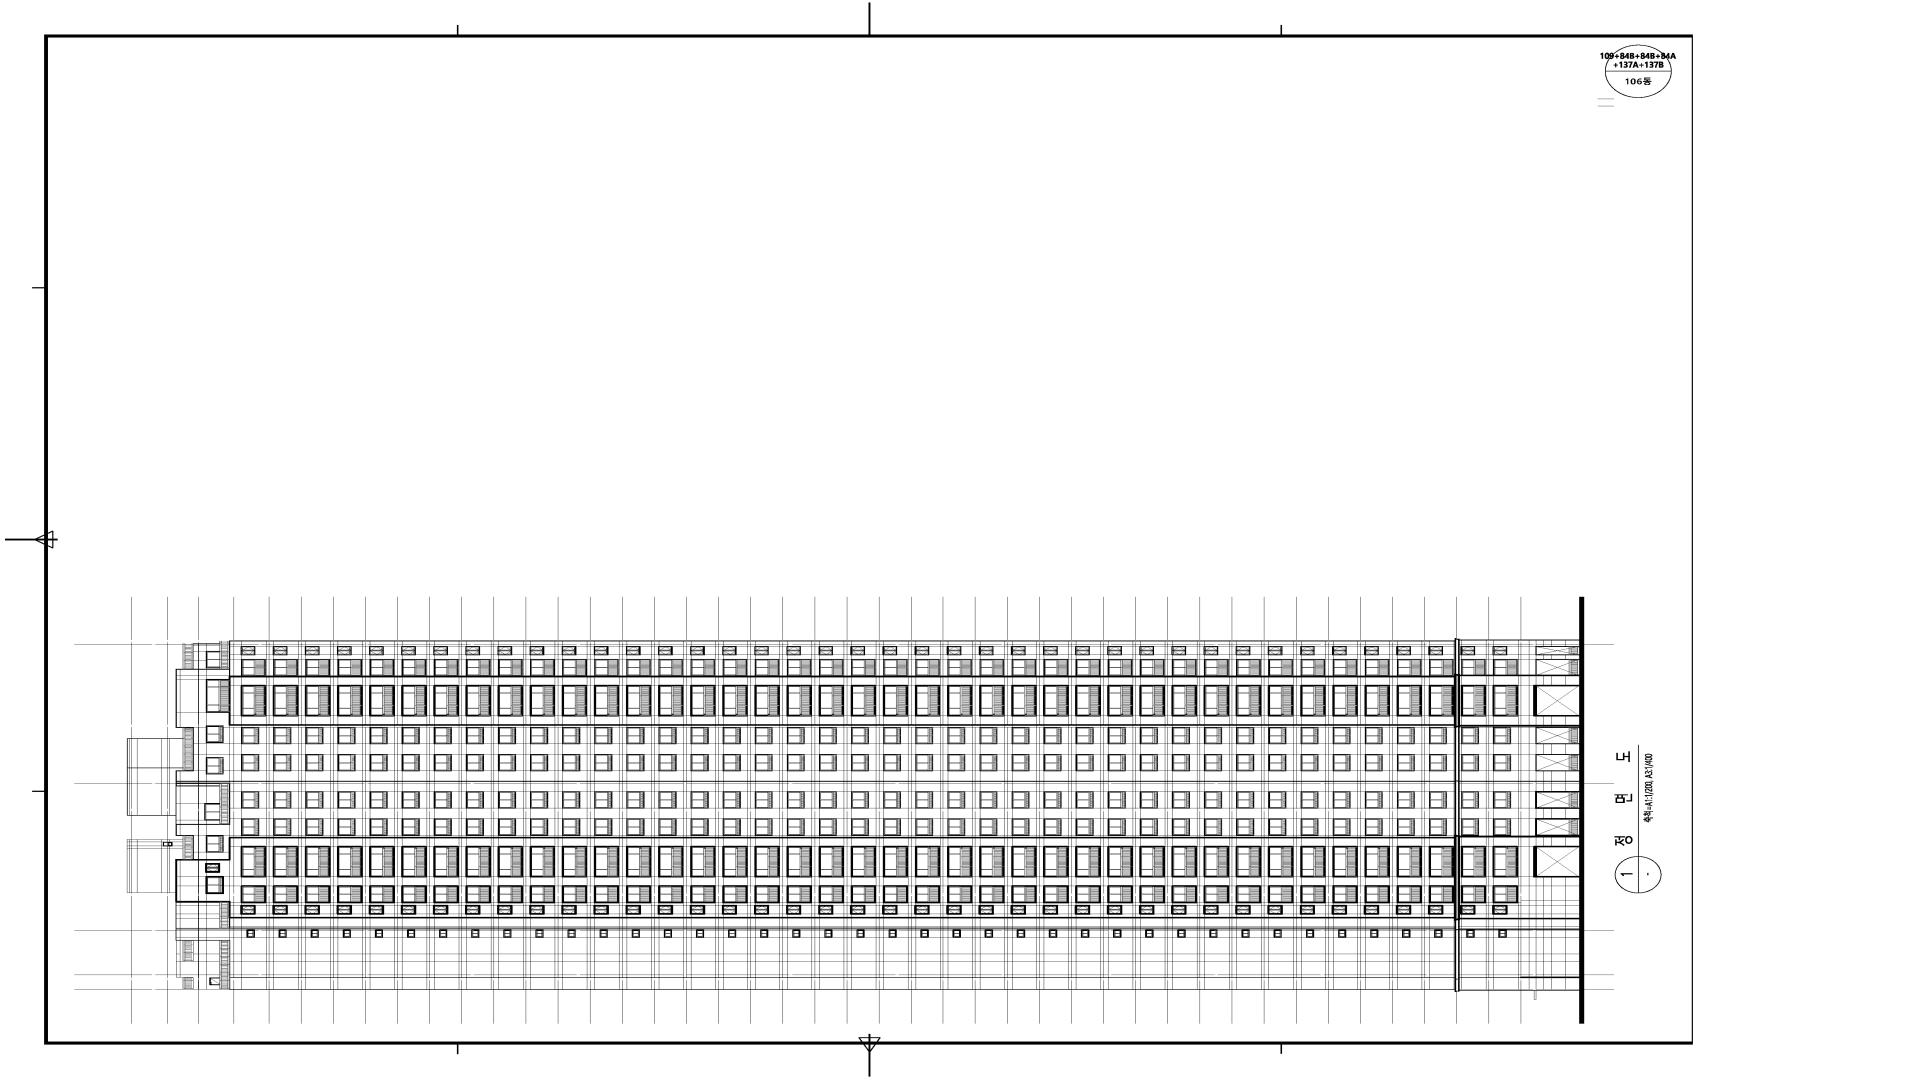door: (1534, 845, 1580, 877), (1534, 684, 1580, 716), (210, 977, 231, 985)
wall: (127, 640, 1585, 990)
window: (1300, 684, 1327, 717), (1332, 684, 1358, 717), (1428, 684, 1455, 717), (240, 845, 266, 878), (1332, 845, 1358, 878), (206, 679, 231, 713), (1139, 847, 1166, 878), (1171, 847, 1197, 878), (1203, 847, 1229, 878), (1267, 684, 1294, 716), (1396, 684, 1423, 716), (947, 845, 973, 877), (947, 684, 973, 716), (305, 845, 331, 877), (401, 845, 427, 877), (497, 845, 524, 877), (1108, 684, 1134, 716), (1139, 684, 1166, 716), (240, 684, 266, 716), (305, 684, 331, 716), (336, 686, 363, 717), (369, 684, 396, 716), (401, 684, 427, 716), (434, 686, 460, 717), (497, 686, 524, 717), (529, 684, 555, 716), (721, 684, 748, 716), (754, 684, 781, 716), (882, 684, 909, 716), (529, 845, 555, 877), (593, 845, 620, 877), (626, 845, 653, 877), (658, 847, 684, 878), (690, 845, 716, 877), (754, 847, 781, 878), (786, 845, 812, 877), (882, 847, 909, 878), (1535, 818, 1580, 836), (980, 845, 1005, 878), (1365, 684, 1390, 717), (1493, 684, 1518, 717), (273, 845, 298, 878), (369, 845, 394, 878), (434, 845, 459, 878), (465, 845, 491, 878), (1011, 684, 1036, 717), (1204, 684, 1229, 717), (1461, 845, 1486, 878), (1011, 845, 1036, 877), (1043, 847, 1068, 878), (1075, 847, 1100, 878), (1108, 847, 1133, 878), (1236, 845, 1261, 877), (1461, 684, 1486, 716), (338, 845, 363, 877), (980, 684, 1005, 716), (1044, 684, 1069, 716), (1076, 684, 1101, 716), (1172, 684, 1197, 716), (1236, 684, 1261, 716), (915, 684, 940, 716), (1269, 847, 1294, 878), (1300, 847, 1325, 878), (1365, 845, 1390, 877), (1396, 847, 1422, 878), (1429, 845, 1455, 877), (1493, 847, 1518, 878), (273, 684, 298, 716), (465, 684, 491, 716), (562, 684, 587, 716), (595, 684, 620, 716), (626, 684, 651, 716), (658, 684, 683, 716), (690, 684, 715, 716), (786, 684, 811, 716), (820, 686, 845, 717), (851, 684, 876, 716), (562, 845, 587, 877), (723, 845, 748, 877), (819, 845, 844, 877), (851, 845, 876, 877), (915, 845, 940, 877), (1535, 791, 1580, 808), (1535, 754, 1580, 771), (1535, 727, 1580, 744), (1535, 659, 1580, 676), (1106, 885, 1133, 903), (1171, 885, 1197, 903), (947, 885, 973, 903), (1396, 885, 1423, 903), (1428, 885, 1455, 903), (401, 885, 427, 903), (433, 885, 459, 903), (1267, 885, 1294, 903), (882, 885, 909, 903), (690, 885, 716, 903), (658, 885, 684, 903), (593, 885, 620, 903), (497, 885, 524, 903), (336, 885, 363, 903), (980, 885, 1005, 903), (1011, 885, 1036, 903), (1043, 885, 1068, 903), (1075, 885, 1100, 903), (1139, 885, 1164, 903), (1204, 885, 1229, 903), (1333, 659, 1358, 678), (1365, 659, 1390, 678), (1396, 659, 1422, 678), (947, 659, 972, 678), (980, 659, 1005, 678), (1204, 659, 1229, 678), (1236, 659, 1261, 678), (1300, 885, 1325, 903), (1333, 885, 1358, 903), (1365, 885, 1390, 903), (1461, 885, 1486, 903), (1493, 885, 1518, 903), (241, 659, 266, 678), (305, 659, 330, 678), (369, 659, 394, 678), (401, 659, 426, 678), (434, 659, 459, 678), (465, 659, 491, 678), (562, 659, 587, 678), (593, 659, 618, 678), (658, 659, 683, 678), (754, 659, 779, 678), (819, 659, 844, 678), (915, 659, 940, 678), (465, 885, 491, 903), (1237, 885, 1262, 903), (915, 885, 940, 903), (851, 885, 876, 903), (819, 885, 844, 903), (787, 885, 812, 903), (754, 885, 779, 903), (723, 885, 748, 903), (626, 885, 651, 903), (562, 885, 587, 903), (530, 885, 555, 903), (241, 885, 266, 903), (273, 885, 298, 903), (305, 885, 330, 903), (369, 885, 394, 903), (204, 803, 231, 820), (1269, 659, 1292, 678), (1302, 659, 1325, 678), (1429, 659, 1453, 678), (1013, 659, 1036, 678), (1044, 659, 1068, 678), (1076, 659, 1100, 678), (1109, 659, 1133, 678), (1141, 659, 1164, 678), (1172, 658, 1196, 676), (273, 659, 297, 678), (338, 659, 361, 678), (498, 658, 522, 676), (530, 659, 554, 678), (626, 658, 650, 676), (691, 659, 715, 678), (723, 659, 746, 678), (787, 659, 811, 678), (852, 659, 876, 678), (884, 659, 907, 678), (1461, 659, 1486, 676), (1493, 659, 1518, 676), (206, 651, 231, 669), (1535, 646, 1580, 655), (1269, 727, 1287, 745), (273, 791, 291, 810), (305, 791, 323, 810), (273, 727, 291, 745), (305, 727, 323, 745), (369, 727, 388, 745), (915, 727, 934, 745), (884, 727, 902, 745), (723, 791, 741, 810), (851, 791, 869, 810), (884, 791, 902, 810), (626, 791, 645, 810), (593, 791, 612, 810), (562, 791, 580, 810), (465, 791, 484, 810), (1011, 818, 1030, 836), (1043, 727, 1062, 745), (1108, 727, 1126, 745), (1396, 791, 1415, 810), (206, 876, 224, 894), (658, 727, 676, 745), (723, 727, 741, 745), (851, 727, 869, 745), (1300, 727, 1319, 744), (1365, 727, 1383, 744), (1396, 727, 1415, 744), (1461, 727, 1480, 744), (1494, 727, 1511, 745), (947, 819, 965, 836), (947, 791, 965, 808), (947, 754, 965, 771), (947, 727, 965, 744), (369, 791, 386, 810), (562, 819, 580, 836), (498, 819, 517, 836), (465, 819, 484, 836), (369, 819, 388, 836), (241, 791, 258, 810), (338, 791, 355, 810), (273, 819, 291, 836), (305, 819, 323, 836), (338, 819, 356, 836), (241, 727, 258, 745), (338, 727, 356, 744), (434, 727, 452, 744), (465, 727, 484, 744), (241, 754, 260, 771), (338, 754, 356, 771), (369, 754, 388, 771), (465, 754, 484, 771), (1139, 754, 1158, 771), (1171, 754, 1189, 771), (1204, 754, 1222, 771), (915, 819, 934, 836), (915, 791, 934, 808), (915, 754, 934, 771), (884, 819, 902, 836), (723, 819, 741, 836), (658, 791, 676, 808), (691, 791, 708, 810), (756, 791, 773, 810), (787, 791, 804, 810), (819, 791, 837, 808), (498, 791, 516, 810), (402, 791, 421, 808), (1011, 791, 1029, 810), (1044, 791, 1062, 810), (1108, 791, 1126, 808), (1139, 791, 1158, 808), (1204, 791, 1222, 808), (1043, 819, 1062, 836), (1075, 819, 1093, 836), (1139, 819, 1158, 836), (1171, 819, 1189, 836), (1204, 819, 1222, 836), (1076, 728, 1095, 745), (1171, 728, 1189, 745), (1204, 728, 1222, 745), (1236, 728, 1254, 745), (980, 754, 998, 771), (1011, 754, 1030, 771), (1043, 754, 1062, 771), (1108, 754, 1126, 771), (1332, 754, 1350, 771), (1396, 754, 1415, 771), (1461, 754, 1480, 771), (1493, 754, 1511, 771), (1300, 791, 1319, 808), (1365, 791, 1382, 810), (1493, 791, 1511, 808), (1300, 819, 1319, 836), (1365, 819, 1383, 836), (1396, 819, 1415, 836), (1461, 819, 1480, 836), (1493, 819, 1511, 836), (206, 725, 224, 742), (206, 757, 224, 774), (206, 835, 224, 852), (498, 727, 516, 745), (562, 728, 580, 745), (626, 727, 644, 745), (691, 727, 708, 745), (756, 727, 773, 745), (498, 754, 517, 771), (562, 754, 580, 771), (626, 754, 645, 771), (658, 754, 676, 771), (787, 727, 804, 745), (819, 727, 836, 745), (819, 754, 837, 771), (851, 754, 869, 771), (1333, 727, 1350, 744), (1429, 727, 1447, 744), (1269, 754, 1286, 771), (1302, 754, 1319, 771), (595, 819, 612, 836), (530, 819, 547, 836), (434, 819, 451, 836), (402, 819, 419, 836), (241, 819, 258, 836), (402, 727, 419, 744), (274, 754, 291, 771), (306, 754, 323, 771), (402, 754, 419, 771), (434, 754, 451, 771), (1237, 754, 1254, 771), (852, 819, 869, 836), (820, 819, 837, 836), (787, 819, 804, 836), (756, 819, 773, 836), (691, 819, 708, 836), (659, 819, 676, 836), (626, 819, 644, 836), (530, 791, 547, 808), (434, 791, 451, 808), (980, 791, 997, 808), (1076, 791, 1093, 808), (1172, 791, 1189, 808), (980, 819, 997, 836), (1108, 819, 1125, 836), (980, 727, 997, 744), (1013, 727, 1030, 744), (1141, 727, 1158, 744), (1076, 754, 1093, 771), (1365, 754, 1382, 771), (1429, 754, 1447, 771), (1237, 791, 1254, 808), (1269, 791, 1286, 808), (1333, 791, 1350, 808), (1429, 791, 1447, 808), (1462, 791, 1480, 808), (1237, 819, 1254, 836), (1269, 819, 1286, 836), (1333, 819, 1350, 836), (1429, 819, 1447, 836), (530, 728, 547, 745), (595, 728, 612, 745), (530, 754, 547, 771), (595, 754, 612, 771), (691, 754, 708, 771), (724, 754, 741, 771), (756, 754, 773, 771), (787, 754, 804, 771), (884, 754, 901, 771), (978, 905, 994, 915), (1075, 905, 1091, 915), (1106, 905, 1122, 915), (1139, 905, 1155, 915), (1171, 905, 1187, 915), (1203, 905, 1218, 915), (1236, 905, 1251, 915), (1267, 905, 1283, 915), (1300, 905, 1316, 915), (1332, 905, 1348, 915), (1364, 905, 1379, 915), (1428, 905, 1444, 915), (1460, 905, 1476, 915), (1491, 905, 1507, 915), (497, 905, 513, 915), (529, 905, 545, 915), (560, 905, 576, 915), (593, 905, 609, 915), (625, 905, 641, 915), (690, 905, 705, 915), (721, 905, 737, 915), (786, 905, 802, 915), (818, 905, 833, 915), (882, 905, 898, 915), (914, 905, 930, 915), (240, 905, 256, 915), (273, 905, 289, 915), (305, 905, 320, 915), (336, 905, 352, 915), (369, 905, 385, 915), (401, 905, 417, 915), (433, 905, 448, 915), (1011, 905, 1026, 915), (1043, 905, 1058, 915), (947, 905, 961, 915), (1396, 905, 1411, 915), (658, 905, 673, 915), (754, 905, 769, 915), (851, 905, 865, 915), (206, 862, 220, 873), (465, 905, 480, 915), (1332, 646, 1348, 655), (1460, 646, 1476, 655), (914, 646, 930, 655), (240, 646, 256, 655), (721, 646, 737, 655), (786, 646, 802, 655), (1364, 646, 1378, 655), (1396, 646, 1411, 655), (1429, 646, 1444, 655), (1493, 646, 1507, 655), (947, 646, 961, 655), (273, 646, 287, 655), (305, 646, 319, 655), (338, 646, 352, 655), (369, 646, 384, 655), (401, 646, 415, 655), (434, 646, 448, 655), (980, 646, 994, 655), (1011, 646, 1026, 655), (1043, 646, 1058, 655), (1075, 646, 1089, 655), (1108, 646, 1122, 655), (1139, 646, 1154, 655), (1172, 646, 1187, 655), (1204, 646, 1218, 655), (1236, 646, 1250, 655), (1269, 646, 1283, 655), (1300, 646, 1315, 655), (593, 646, 608, 655), (626, 646, 641, 655), (658, 646, 673, 655), (691, 646, 705, 655), (754, 646, 769, 655), (819, 646, 833, 655), (851, 646, 865, 655), (882, 646, 897, 655), (465, 646, 480, 655), (497, 646, 512, 655), (530, 646, 545, 655), (562, 646, 576, 655), (471, 928, 480, 938), (1498, 928, 1507, 938), (1017, 930, 1026, 938), (1048, 930, 1058, 938), (1113, 930, 1122, 938), (1145, 930, 1154, 938), (1209, 930, 1218, 938), (952, 930, 961, 938), (278, 930, 287, 938), (310, 930, 319, 938), (375, 930, 384, 938), (406, 930, 415, 938), (504, 928, 512, 938), (535, 928, 543, 938), (567, 930, 576, 938), (663, 930, 673, 938), (760, 930, 769, 938), (1241, 930, 1250, 938), (1305, 930, 1315, 938), (1338, 928, 1346, 938), (1370, 930, 1379, 938), (1402, 930, 1411, 938), (1433, 930, 1443, 938), (985, 930, 993, 938), (1081, 930, 1089, 938), (1178, 930, 1185, 938), (247, 930, 255, 938), (343, 930, 351, 938), (439, 930, 447, 938), (600, 930, 608, 938), (632, 930, 640, 938), (696, 930, 704, 938), (728, 930, 736, 938), (793, 930, 800, 938), (824, 930, 832, 938), (857, 930, 865, 938), (889, 930, 897, 938), (920, 930, 928, 938), (1274, 930, 1282, 938), (1466, 930, 1474, 938), (162, 841, 173, 847)
